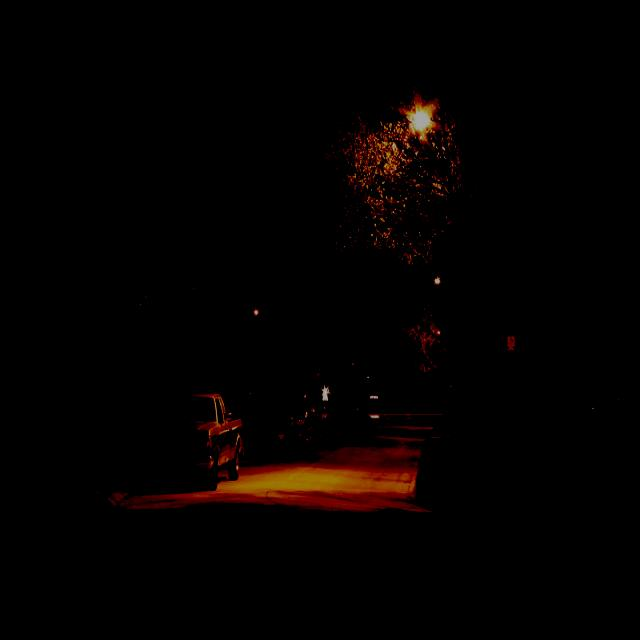Car: (142, 394, 244, 493), (258, 395, 315, 454), (326, 399, 358, 434)
